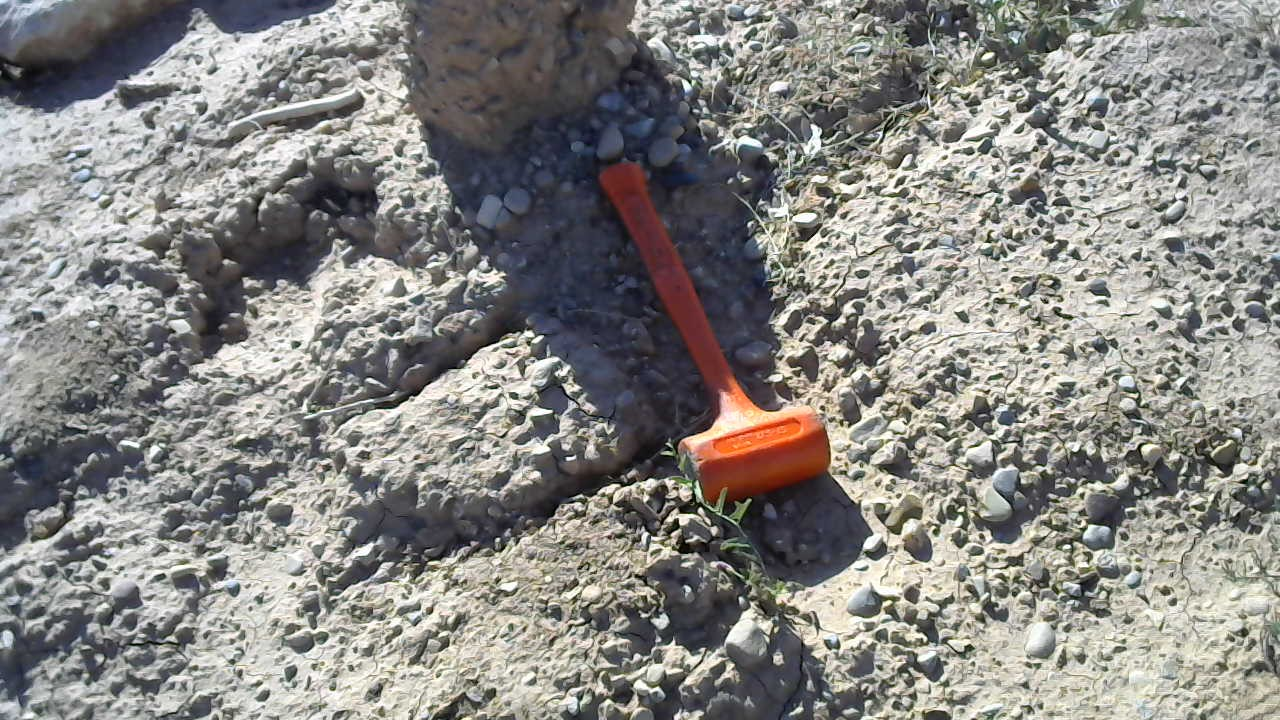hammer: (586, 139, 839, 517)
